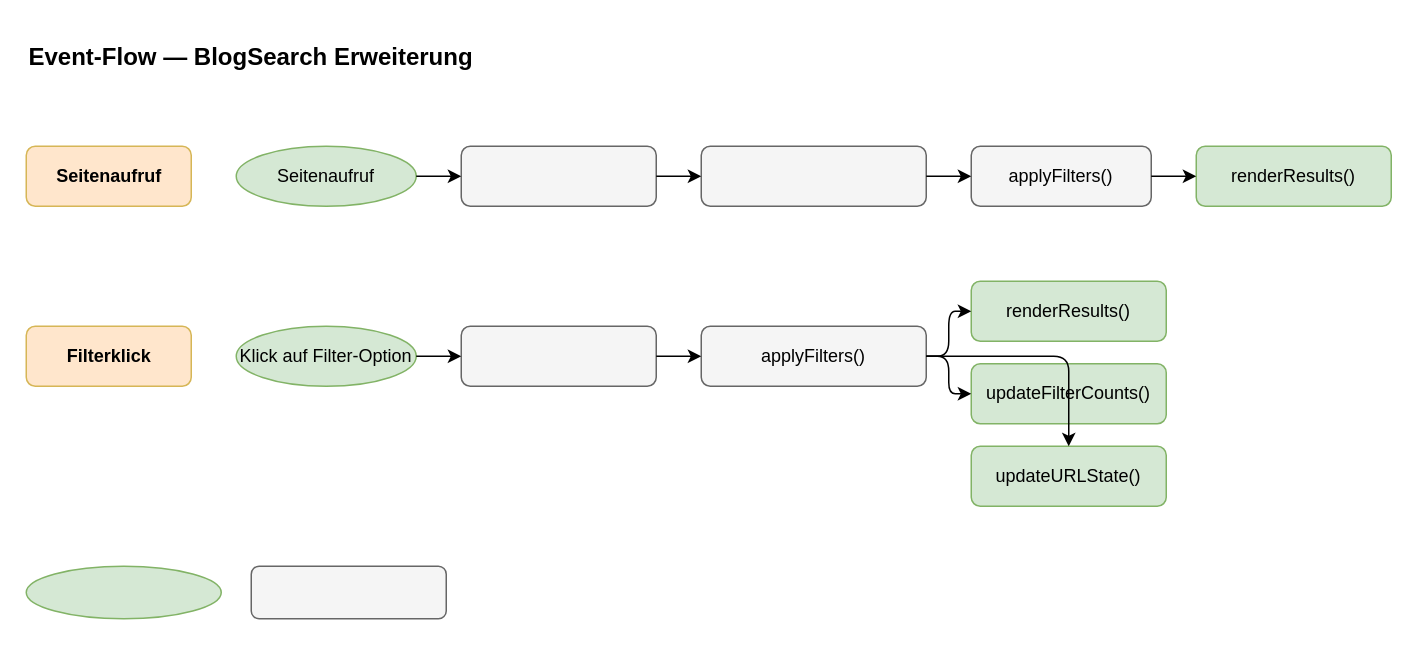
The diagram is 1418 pixels wide and 645 high, and some of its shapes have lost their labels. The box of each missing label's shape, as (x1, y1, x2, y2) in pixels:
activeFilters update: (460, 325, 656, 386)
loadFiltersFromURL(): (700, 145, 926, 206)
Trigger / Ergebnis: (25, 565, 221, 619)
URL-Params lesen: (460, 145, 656, 206)
Verarbeitungsschritt: (250, 565, 446, 619)
